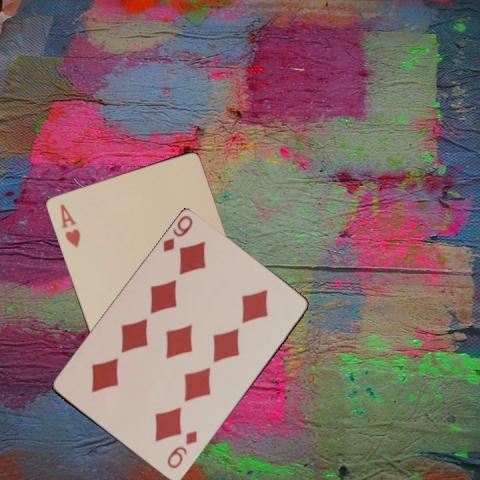9d: (163, 427, 199, 471), (160, 213, 195, 254)
Ah: (57, 200, 81, 248)
